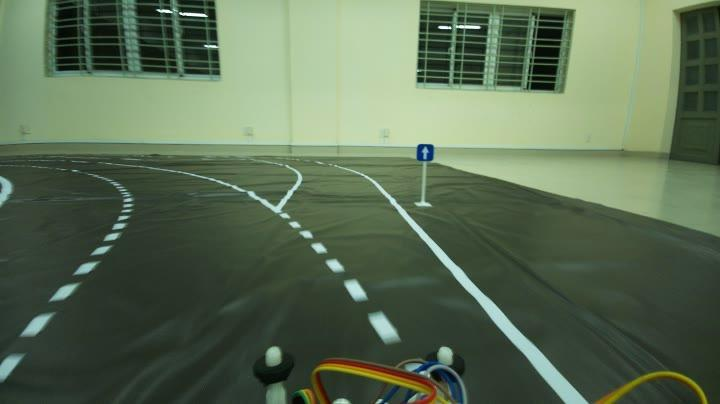onewayroad: (412, 139, 439, 164)
